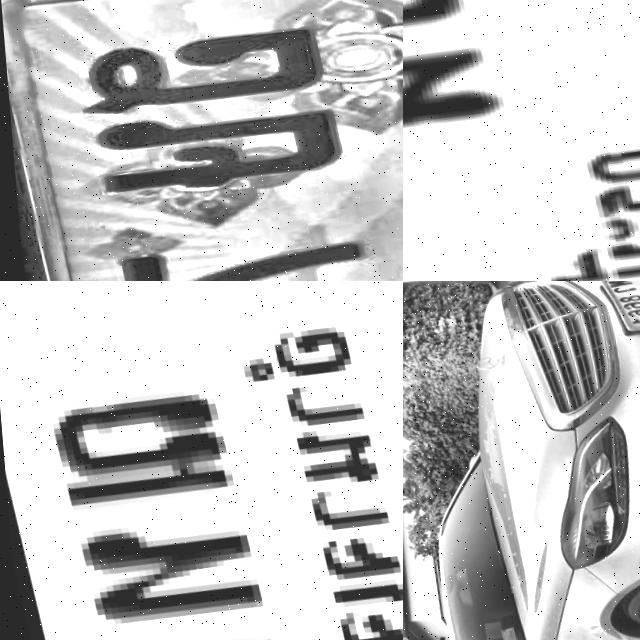license-plate: (0, 281, 403, 640), (0, 0, 403, 281), (403, 0, 640, 281), (592, 281, 640, 333)
